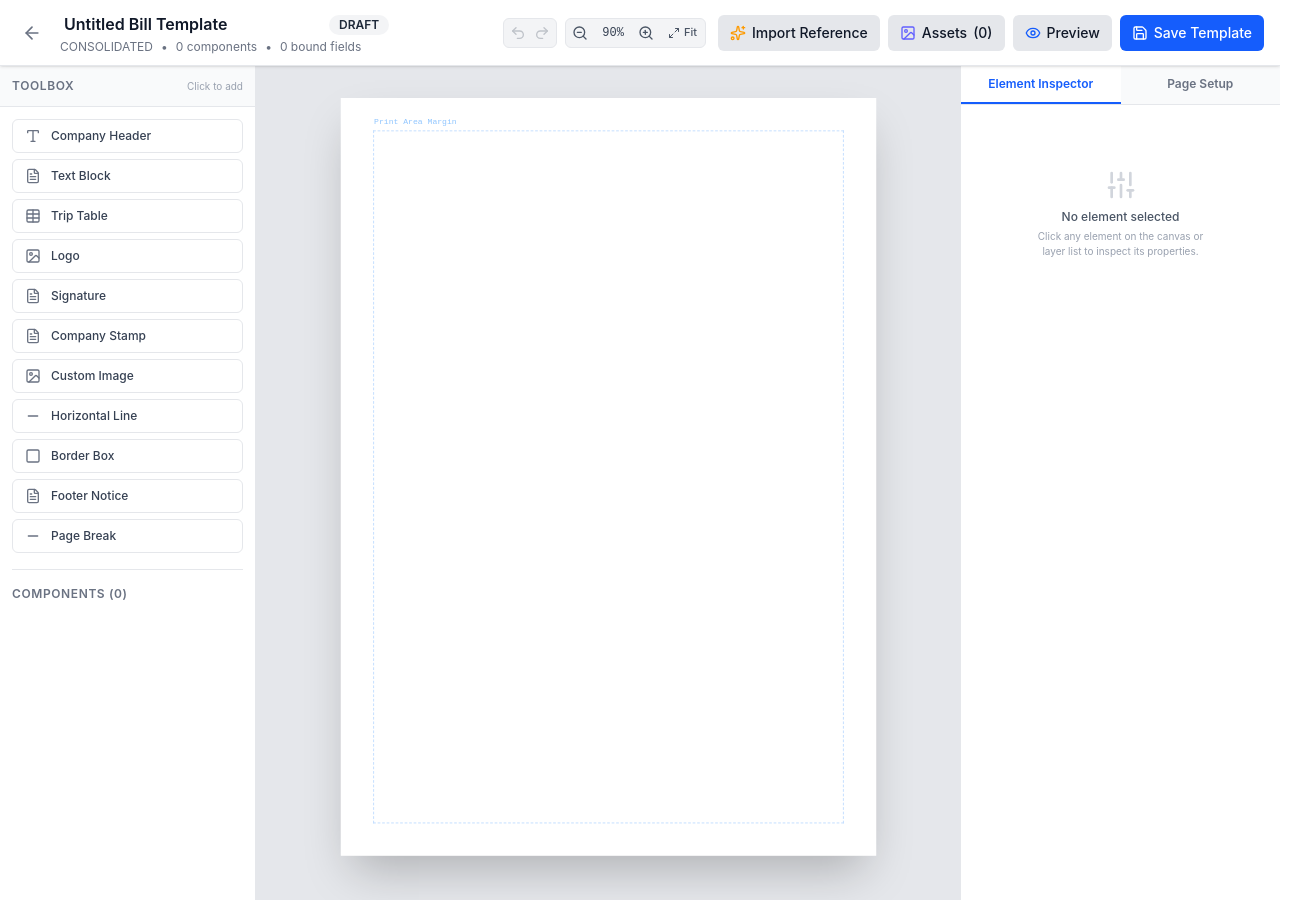
Test case: BillDesigner Visual Editor › supports keyboard shortcuts for nudge, duplicate, delete, and undo/redo
Add a text block
Click the button "Text Block": (128, 176) [12, 159, 243, 193]
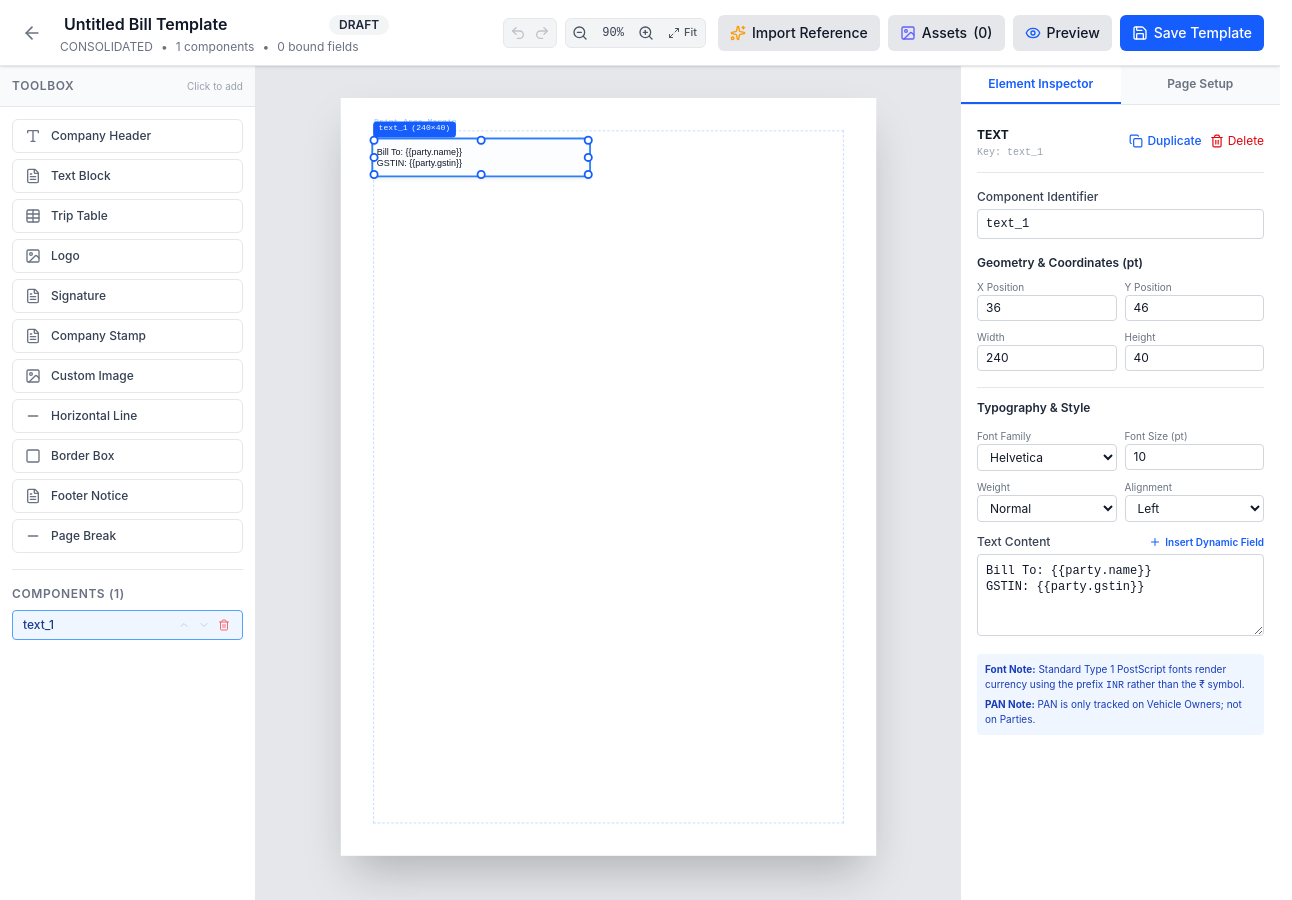
Result: the text "text_1" below "Components (" is shown at [23, 617, 54, 632]
Duplicate using Ctrl+D
Press d
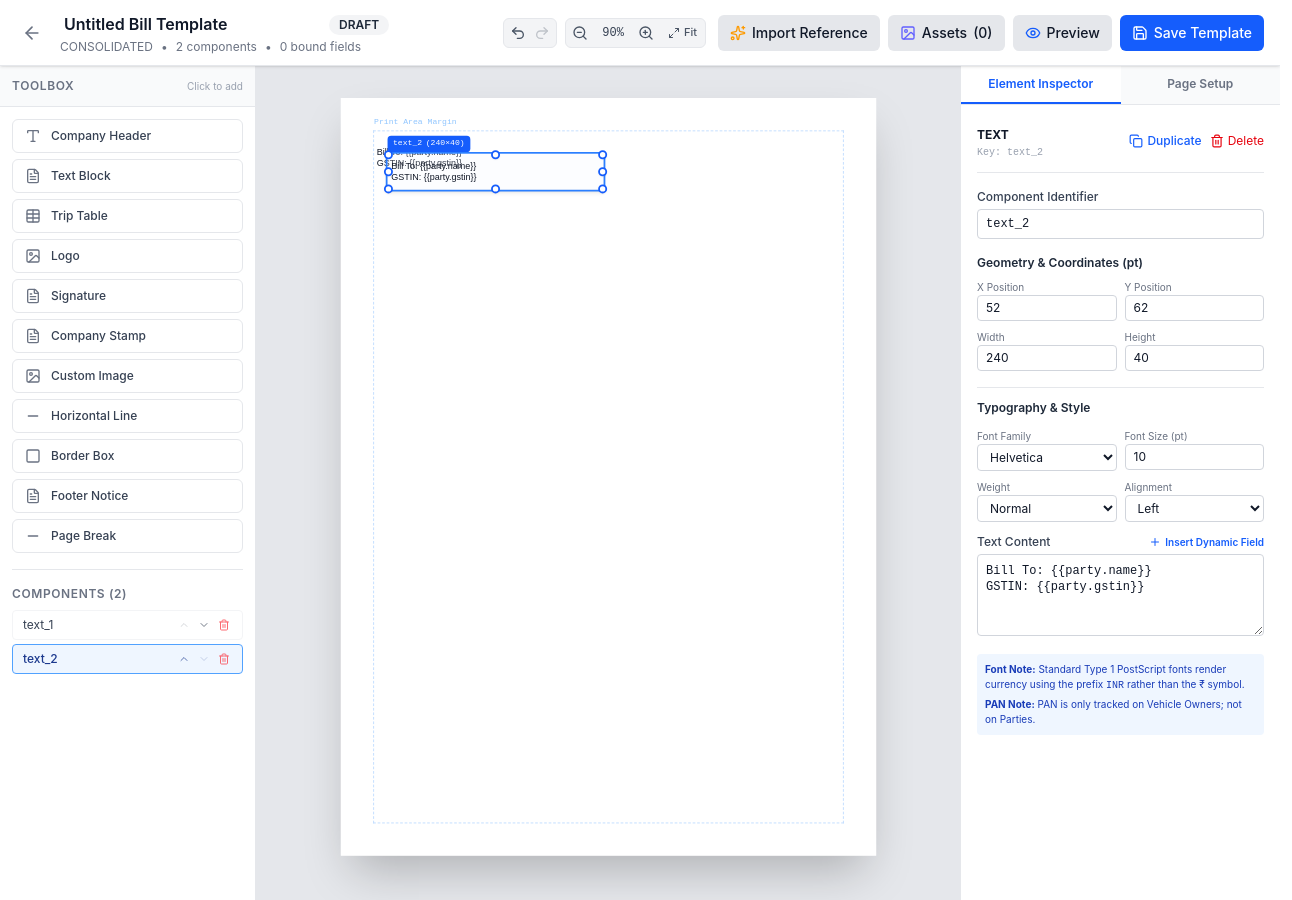
Result: the text "text_2" is shown at [23, 651, 58, 667]
Nudge with ArrowRight
Press ArrowRight
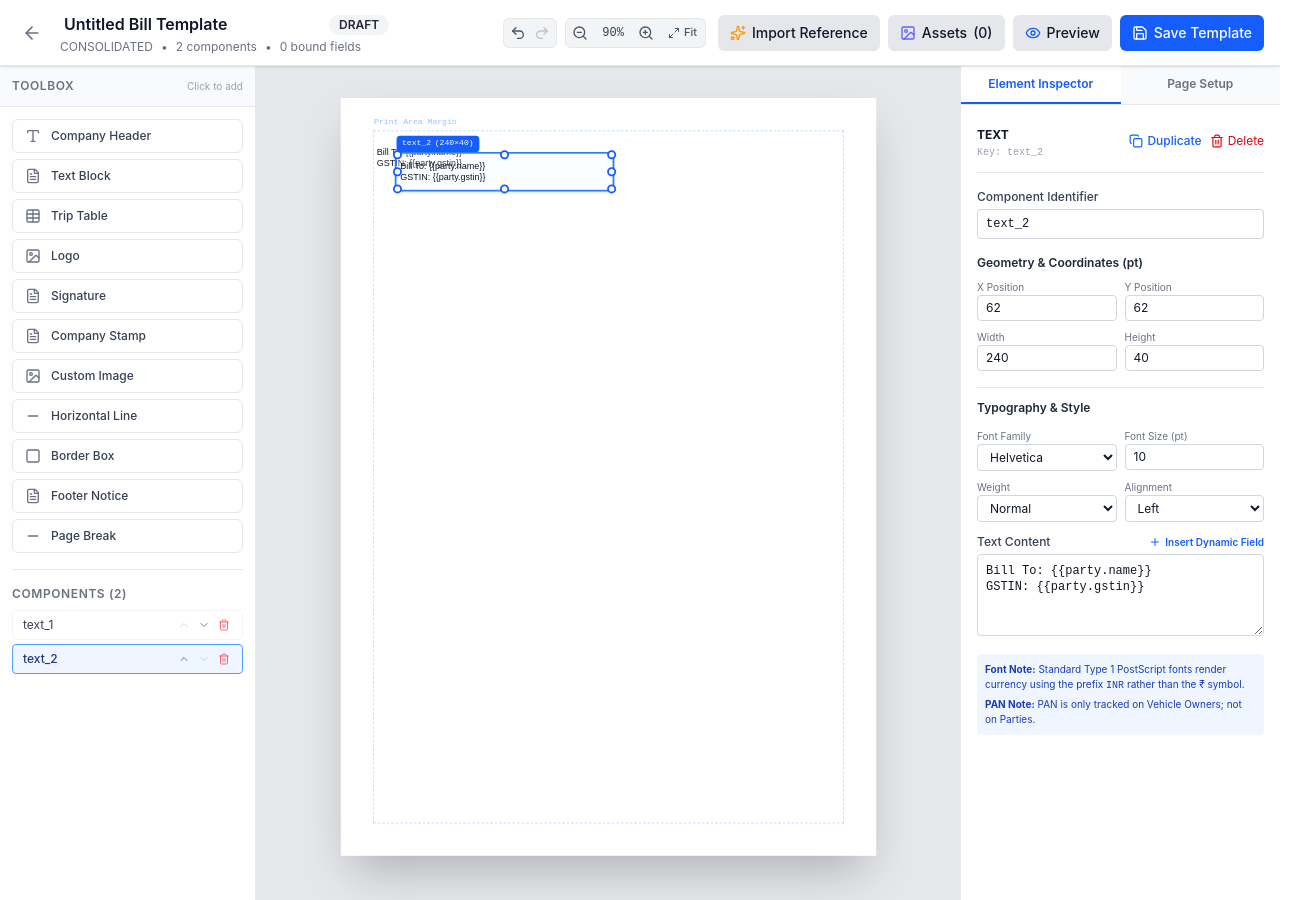
Delete with Delete key
Press Delete
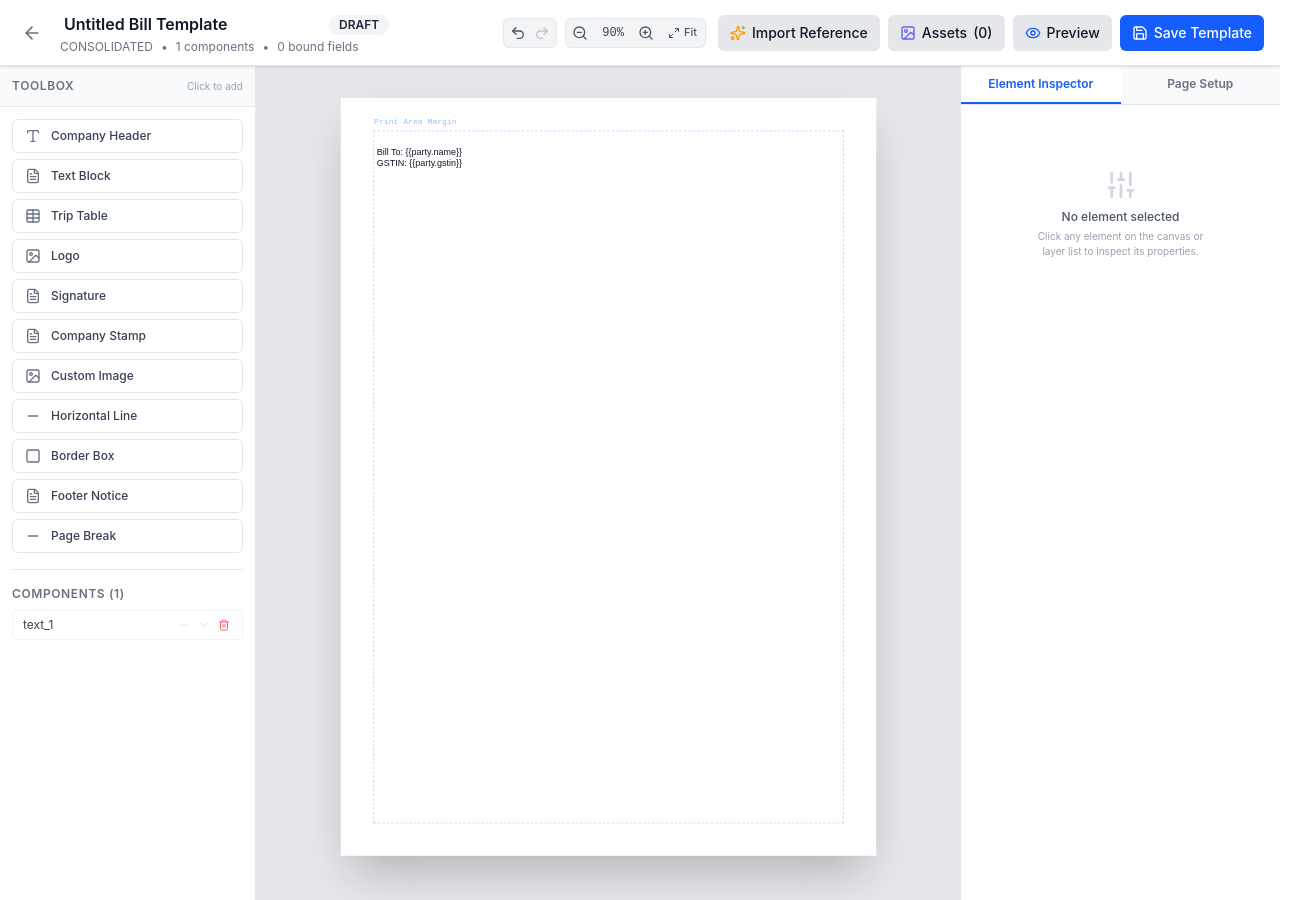
Result: the text "text_2" is gone
Undo with Ctrl+Z
Press z
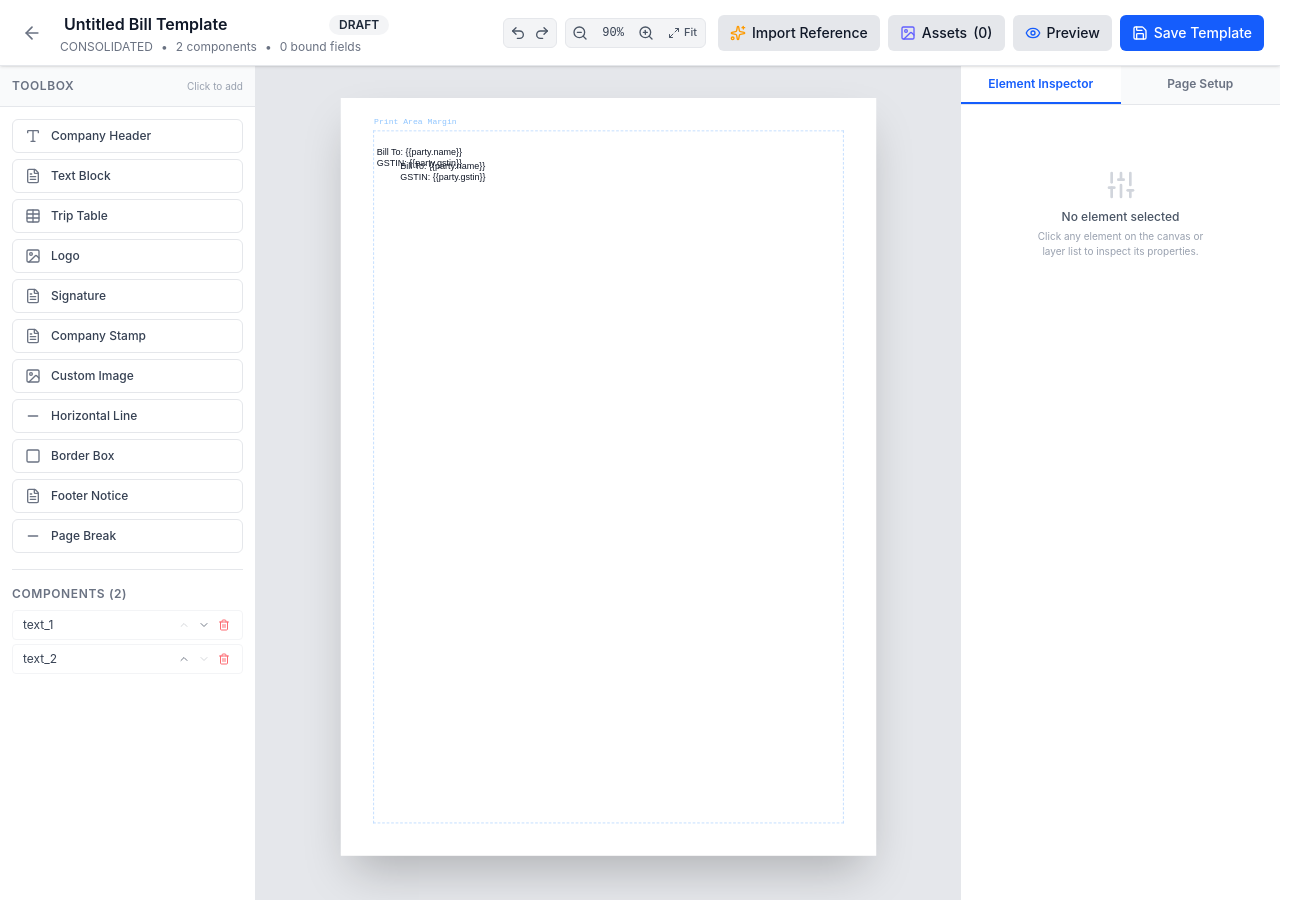
Result: the text "text_2" is shown at [23, 651, 57, 667]
